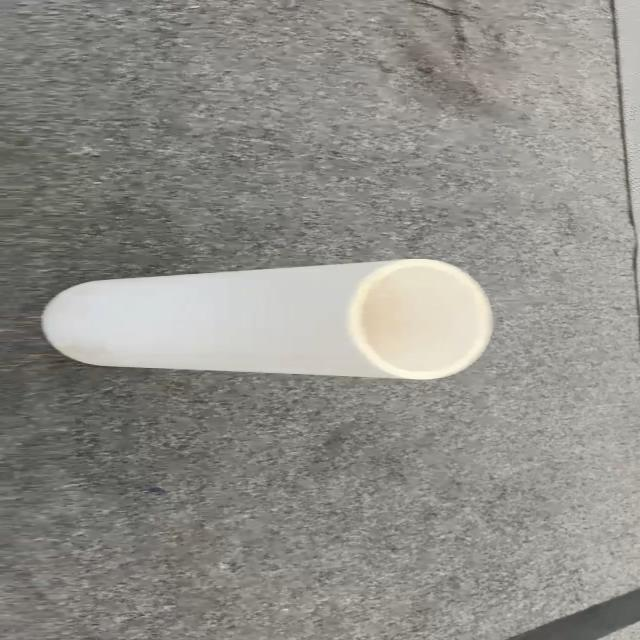coral: (40, 256, 495, 381)
